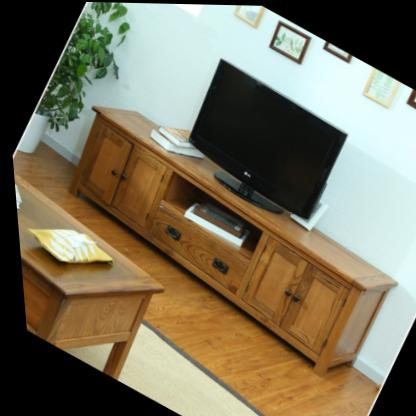TV stand: (15, 84, 408, 390)
